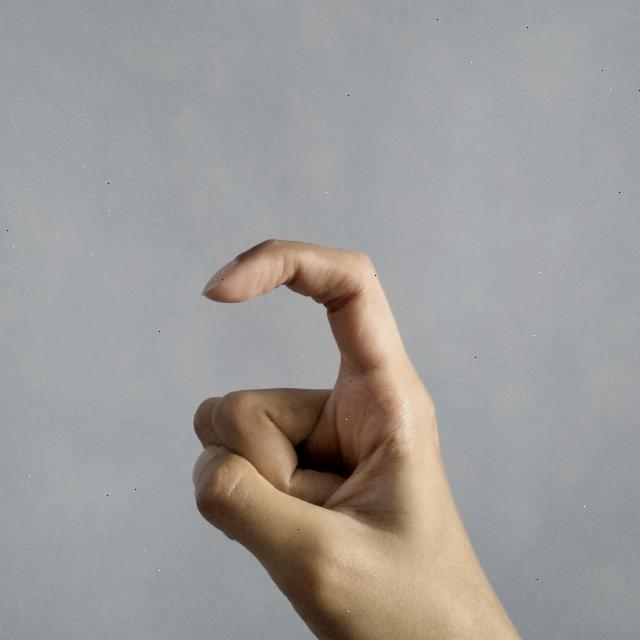X: (181, 229, 527, 640)
